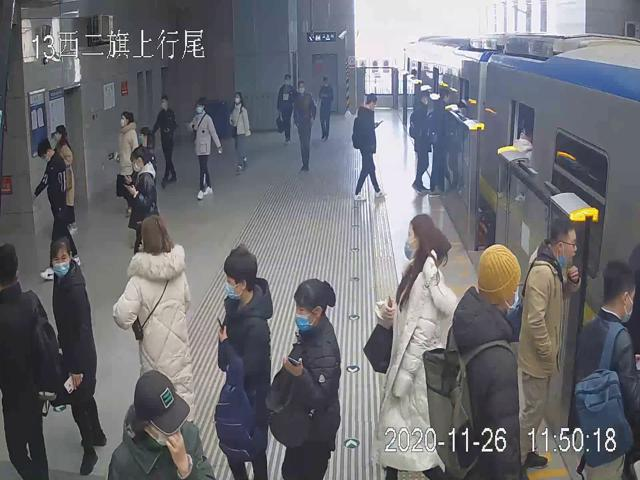person: (376, 215, 457, 480), (448, 244, 523, 480), (114, 214, 197, 425), (524, 219, 582, 477), (214, 244, 273, 480), (51, 236, 109, 472), (577, 260, 636, 480), (283, 277, 341, 480), (34, 140, 81, 278), (352, 93, 386, 203), (126, 146, 159, 255), (190, 99, 221, 196), (112, 111, 140, 216), (151, 93, 178, 187), (292, 81, 318, 173), (412, 88, 432, 196), (227, 92, 251, 176), (277, 73, 295, 144), (318, 76, 332, 142)
